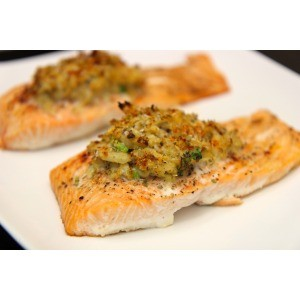salmon_brain food: (60, 123, 292, 235), (13, 57, 226, 117)
